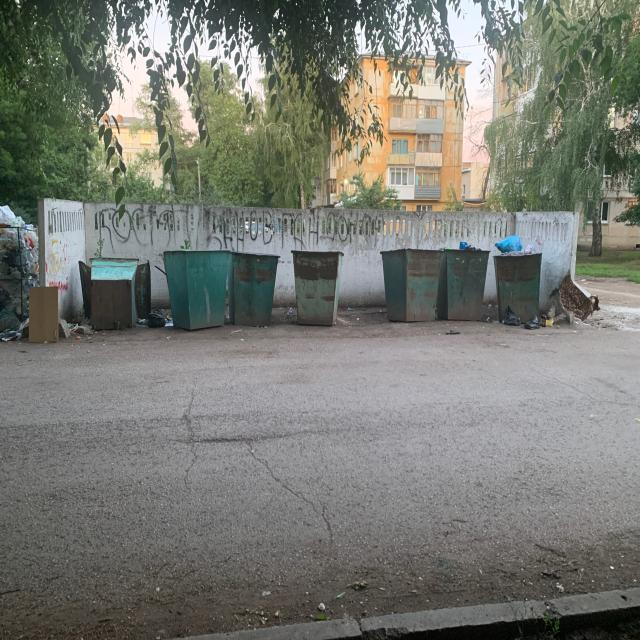bin: (164, 251, 343, 327), (380, 251, 489, 328), (78, 258, 151, 330), (494, 256, 541, 300)
plastic: (0, 202, 59, 344), (540, 269, 601, 332), (498, 303, 540, 331), (493, 232, 540, 256), (139, 306, 173, 331), (60, 315, 90, 341), (442, 239, 485, 251)
